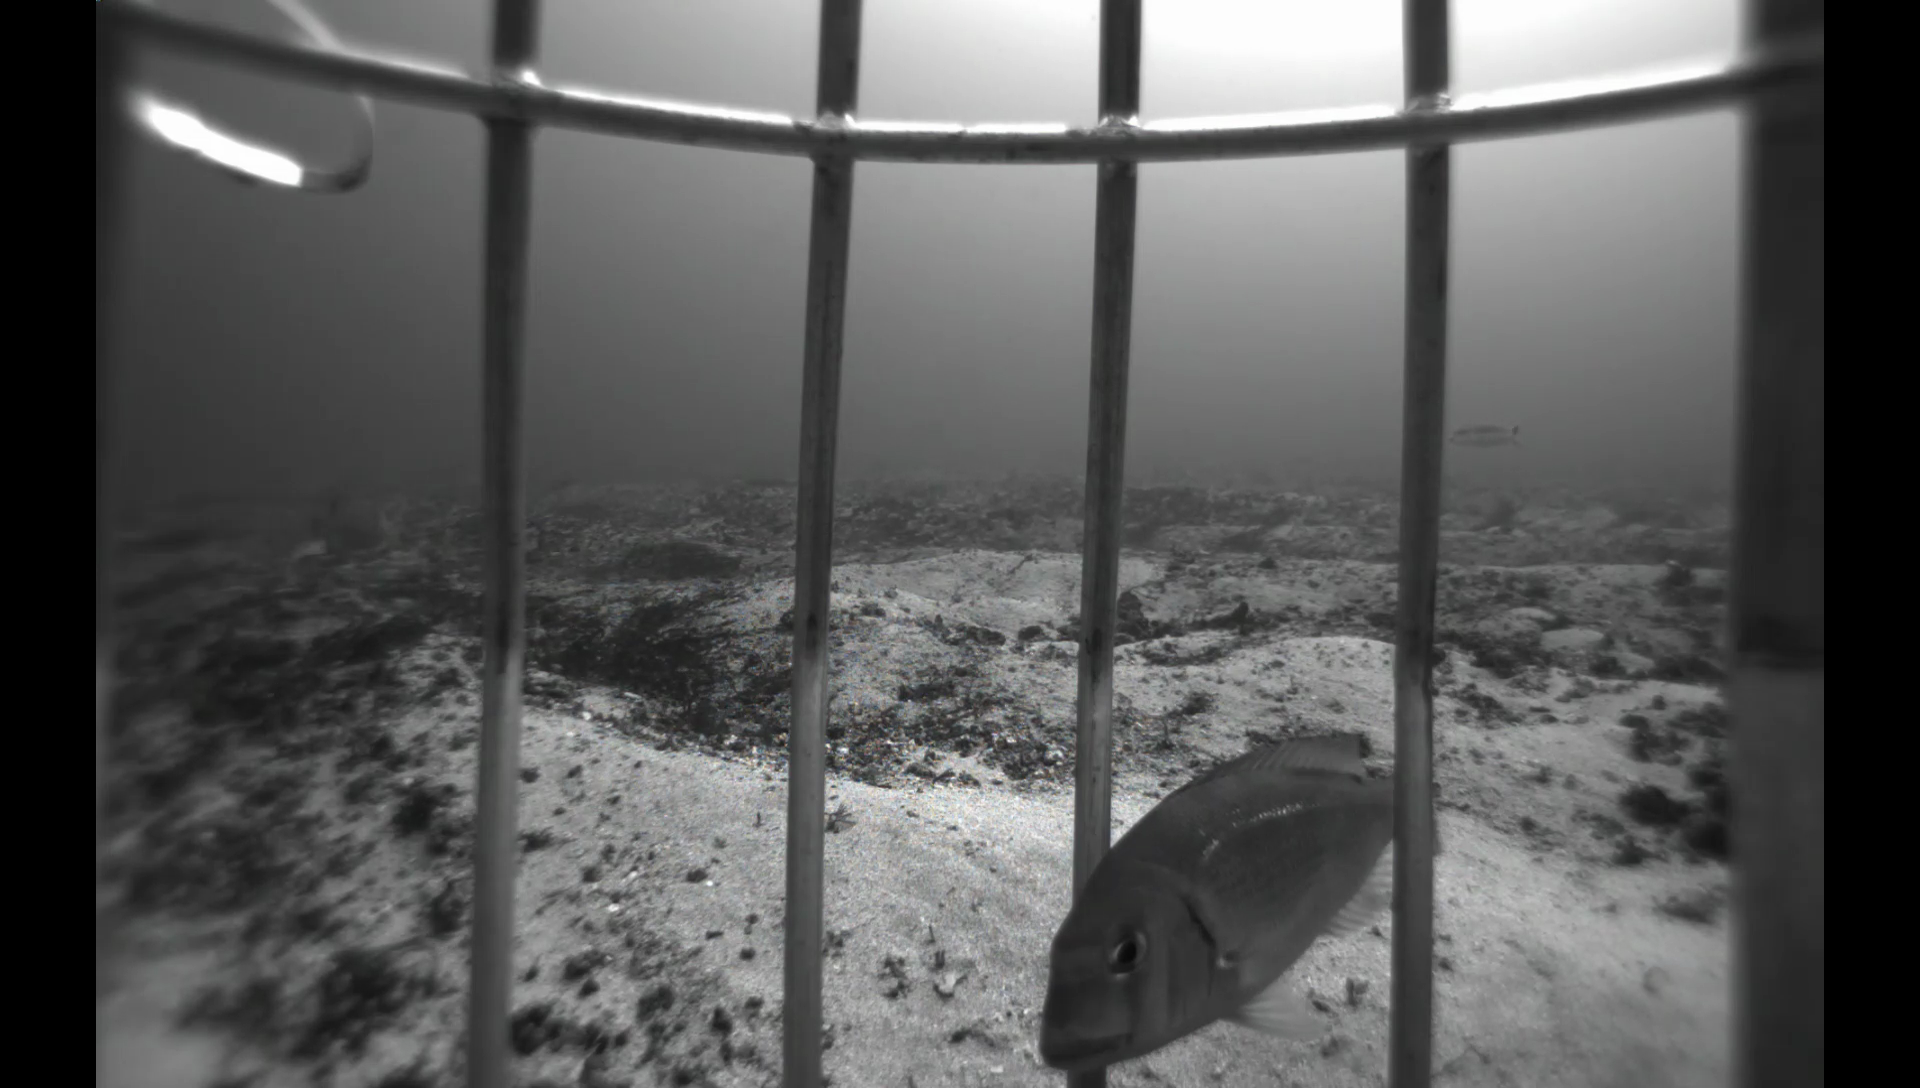MALACANTHUSPLUMIERI-170070301: (1447, 418, 1528, 452)
PAGRUSPAGRUS-170212302: (1023, 706, 1451, 1088)
POMACANTHUSARCUATUS-170290201: (295, 487, 404, 571)
